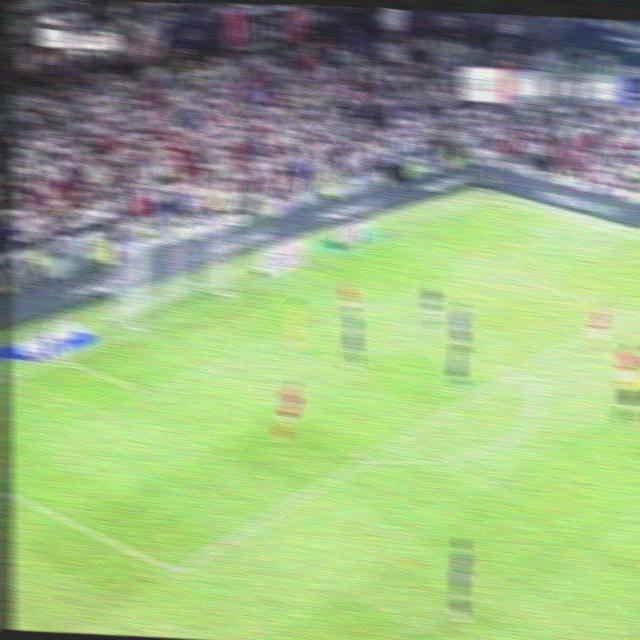bigarea_bottom_inner: (160, 551, 192, 586)
bigarea_top_inner: (610, 296, 636, 322)
bigarea_top_outter: (375, 228, 400, 245)
bottom_arc_area_intersection: (349, 443, 380, 474)
corner: (476, 189, 502, 205)
smallarea_bottom_inner: (135, 375, 163, 407)
smallarea_bottom_outter: (51, 347, 75, 368)
smallarea_top_inner: (348, 292, 372, 310)
smallarea_top_outter: (271, 263, 300, 287)
top_arc_area_intersection: (503, 355, 533, 383)
